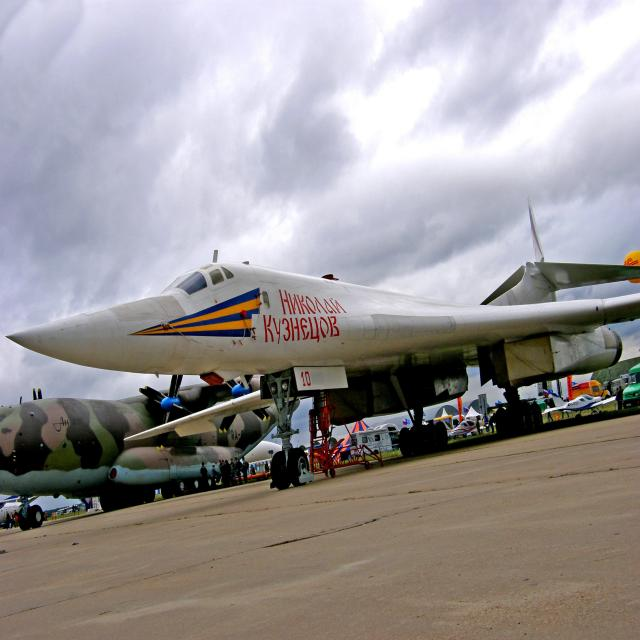Tu160: (6, 211, 640, 502)
